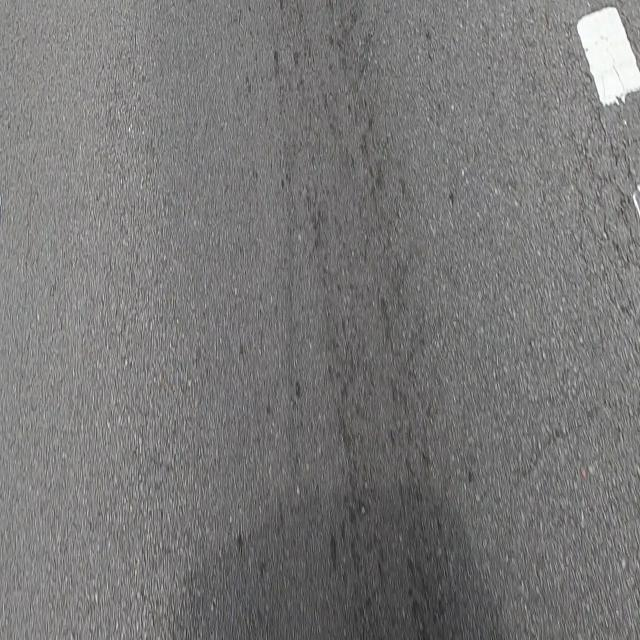Retak-Buaya: (567, 7, 639, 335)
